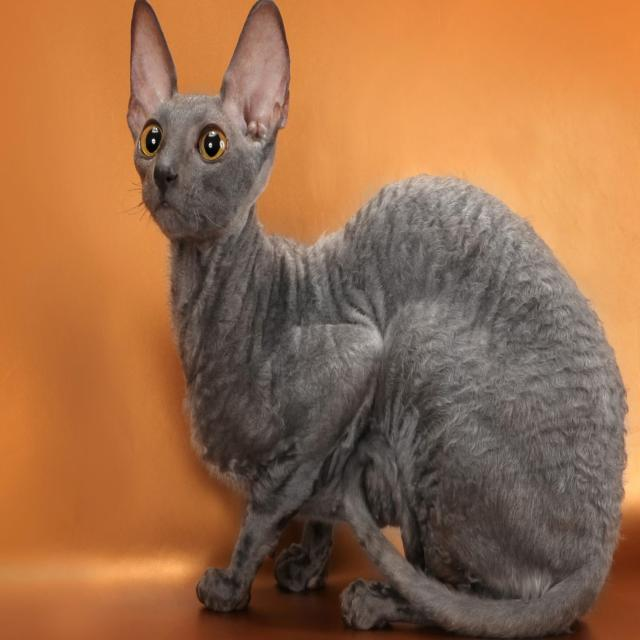Cornish Rex: (122, 0, 634, 640)
